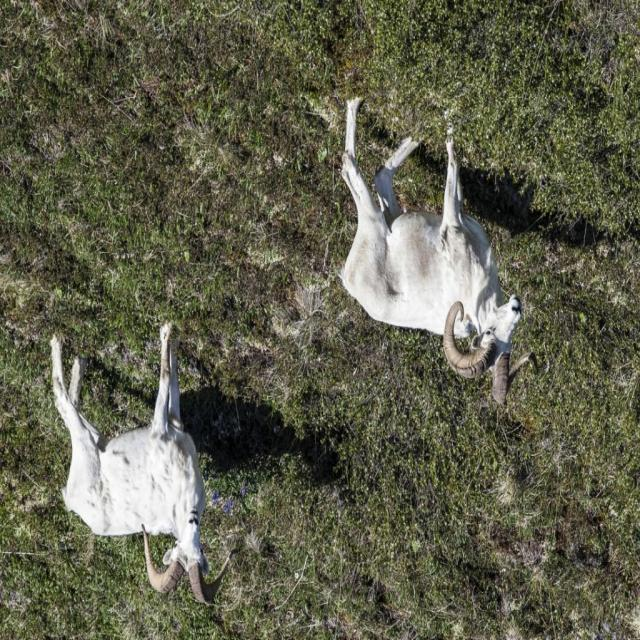Goat: (336, 95, 537, 407), (49, 321, 238, 605)
